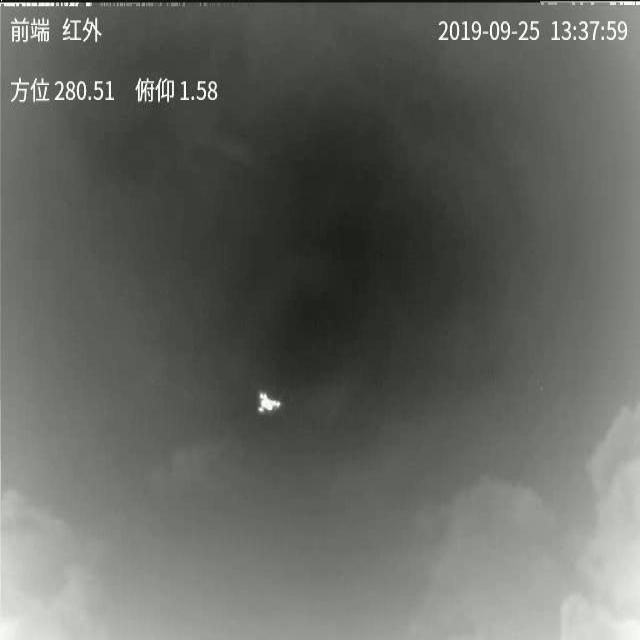drone: (257, 386, 284, 414)
